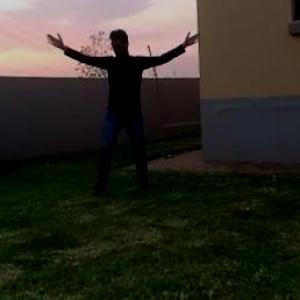takeoff: (51, 31, 199, 194)
